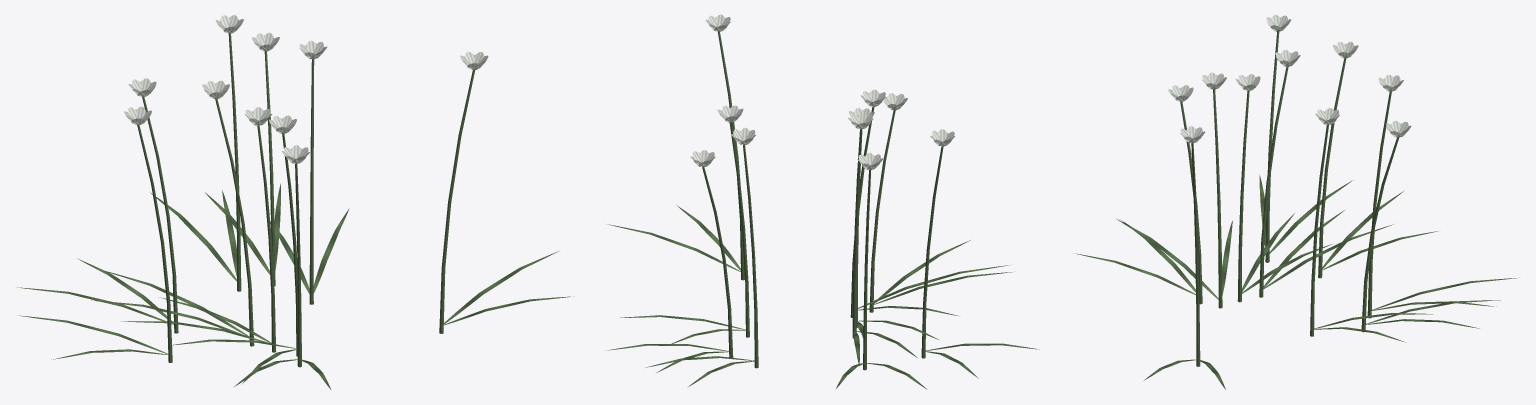
The model's file is cotton_grass_v02.fbx.
3 views of the same model, side by side, from view 1: azimuth 30°, elevation 25°; view 2: azimuth 150°, elevation 25°; view 3: azimuth 270°, elevation 25° (orthographic). The views are drawn at different scales.
Parts seen in each view (by area): view 1: cotton_grass_v02; view 2: cotton_grass_v02; view 3: cotton_grass_v02.
Part boxes in pixels (<box>): cotton_grass_v02: <box>17,15,574,389</box>; cotton_grass_v02: <box>604,14,1039,389</box>; cotton_grass_v02: <box>1074,14,1519,389</box>.
Bounding box in the file's own units: 73.28 × 63.57 × 38.6.
3 materials, 3 textured.
